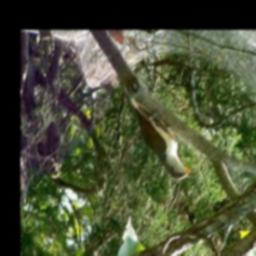Cuckoo: (117, 77, 193, 183)
